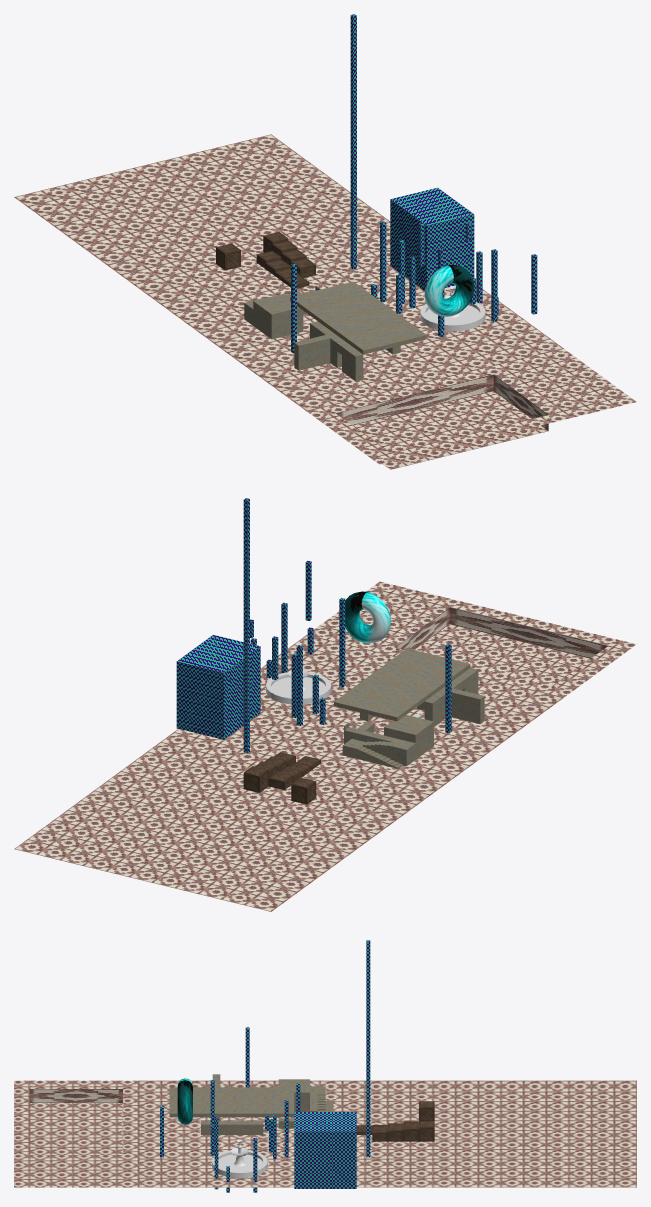
Rendered from playtest-new.gltf.
The picture shows the model from 3 angles, top to bottom: view 1: azimuth 30°, elevation 25°; view 2: azimuth 150°, elevation 25°; view 3: azimuth 270°, elevation 25°; orthographic projection. The views are drawn at different scales.
Visible parts, largest first — view 1: CSGBox3D62.001, CSGBox3D62.046 (×4), CSGBox3D62.015, CSGBox3D62.002, CSGBox3D62.030, CSGBox3D62.045; view 2: CSGBox3D62.001, CSGBox3D62.046 (×6), CSGBox3D62.015, CSGBox3D62.002, CSGBox3D62.030, CSGBox3D62.045, CSGBox3D62.007, CSGBox3D62.003; view 3: CSGBox3D62.001, CSGBox3D62.046 (×5), CSGBox3D62.015, CSGBox3D62.002, CSGBox3D62.045, CSGBox3D62.030.
Boxes of the visible parts, bbox=[...] form: CSGBox3D62.001: bbox=[14, 134, 636, 469]; CSGBox3D62.046 (×4): bbox=[243, 14, 426, 381]; CSGBox3D62.015: bbox=[390, 187, 474, 290]; CSGBox3D62.002: bbox=[256, 232, 315, 288]; CSGBox3D62.030: bbox=[424, 265, 474, 316]; CSGBox3D62.045: bbox=[420, 286, 485, 331]; CSGBox3D62.001: bbox=[14, 581, 636, 911]; CSGBox3D62.046 (×6): bbox=[243, 498, 484, 768]; CSGBox3D62.015: bbox=[176, 635, 260, 739]; CSGBox3D62.002: bbox=[243, 752, 320, 792]; CSGBox3D62.030: bbox=[345, 591, 390, 643]; CSGBox3D62.045: bbox=[266, 669, 331, 704]; CSGBox3D62.007: bbox=[424, 690, 445, 726]; CSGBox3D62.003: bbox=[291, 777, 316, 804]; CSGBox3D62.001: bbox=[14, 1080, 636, 1187]; CSGBox3D62.046 (×5): bbox=[169, 940, 370, 1171]; CSGBox3D62.015: bbox=[294, 1112, 356, 1188]; CSGBox3D62.002: bbox=[356, 1121, 434, 1141]; CSGBox3D62.045: bbox=[212, 1139, 267, 1177]; CSGBox3D62.030: bbox=[177, 1078, 192, 1124].
Bounding box in the file's own units: 65.5 × 65 × 160.
5 materials, 5 textured.
